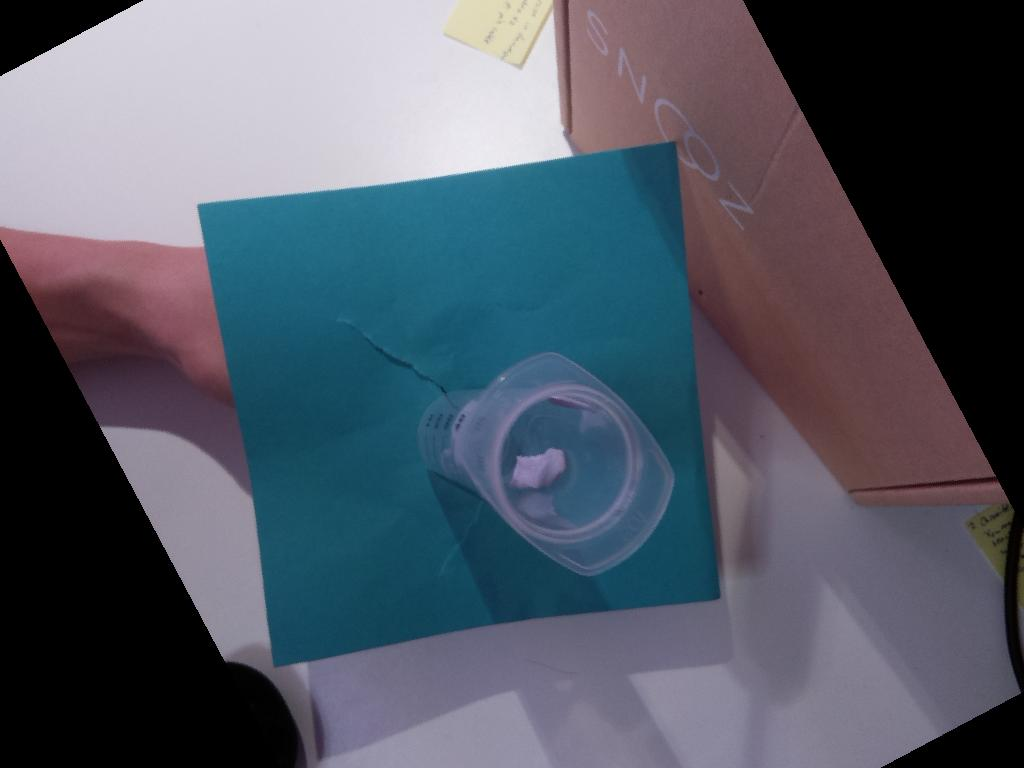dirty: (456, 351, 675, 575)
